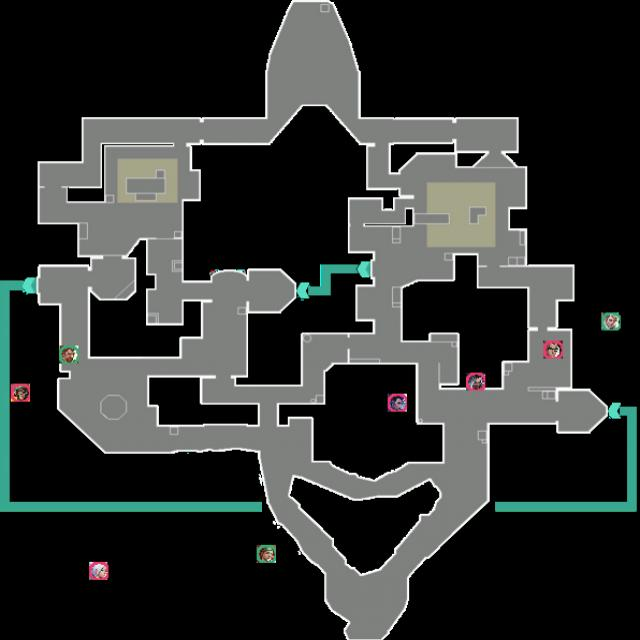atk_chamber: (543, 341, 563, 358)
atk_fade: (466, 372, 485, 390)
atk_jett: (89, 562, 109, 580)
atk_killjoy: (11, 384, 30, 402)
atk_yoru: (388, 394, 407, 412)
def_breach: (59, 346, 78, 364)
def_skye: (257, 545, 276, 563)
def_sova: (601, 312, 621, 330)
